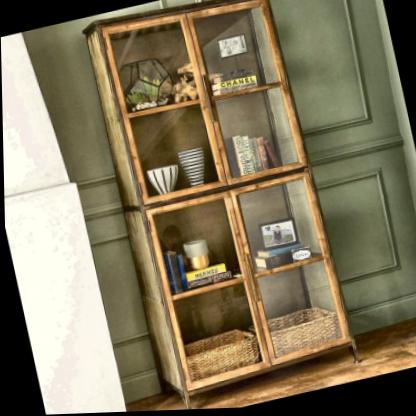Cupboard: (81, 0, 359, 401)
